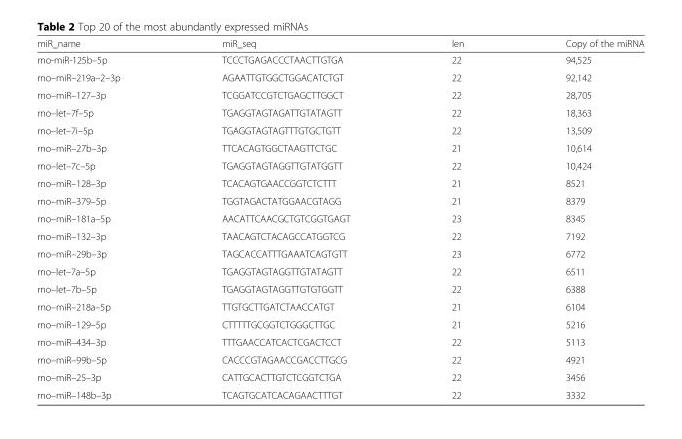table: (36, 37, 643, 400)
table column: (170, 37, 400, 400), (36, 37, 170, 400), (514, 37, 643, 400), (400, 37, 514, 400)
table column header: (36, 37, 643, 51)
table row: (36, 85, 643, 103), (36, 103, 643, 121), (36, 138, 643, 156), (36, 156, 643, 174), (36, 191, 643, 209), (36, 209, 643, 227), (36, 244, 643, 262), (36, 279, 643, 297), (36, 297, 643, 315), (36, 332, 643, 350), (36, 350, 643, 368), (36, 51, 643, 68), (36, 68, 643, 85), (36, 121, 643, 138), (36, 174, 643, 191), (36, 227, 643, 244), (36, 262, 643, 279), (36, 315, 643, 332), (36, 368, 643, 385), (36, 385, 643, 400), (36, 37, 643, 51)
